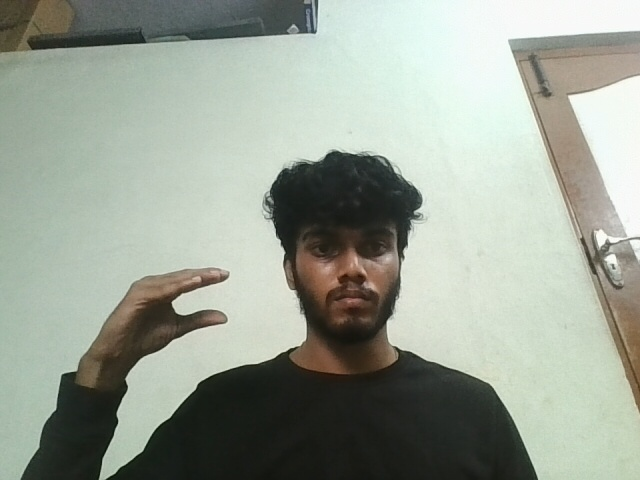no: (88, 254, 265, 363)
